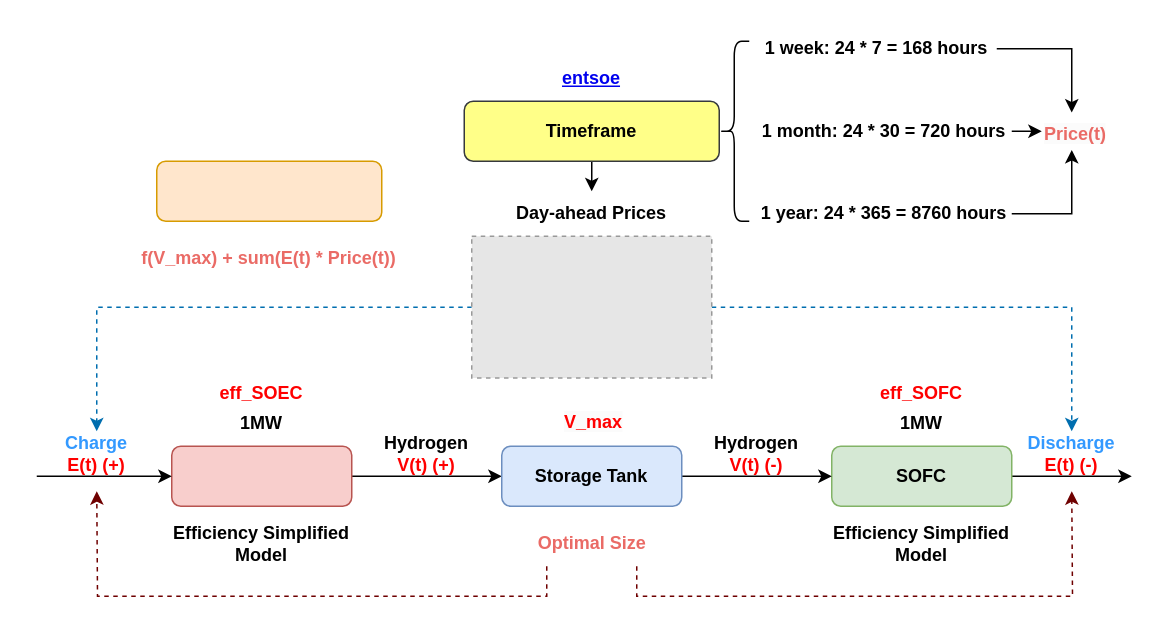
Some shapes in this 1170 by 635 pixel diagram are drawn without their labels. Grey dashed boxes stand in for pictures. The shapes that lost their labels are listed below. From the top down, each one's centre as x and y in pixels, then its label:
At point (268, 190): "Reduce Investment Cost".
At point (261, 475): "SOEC".
